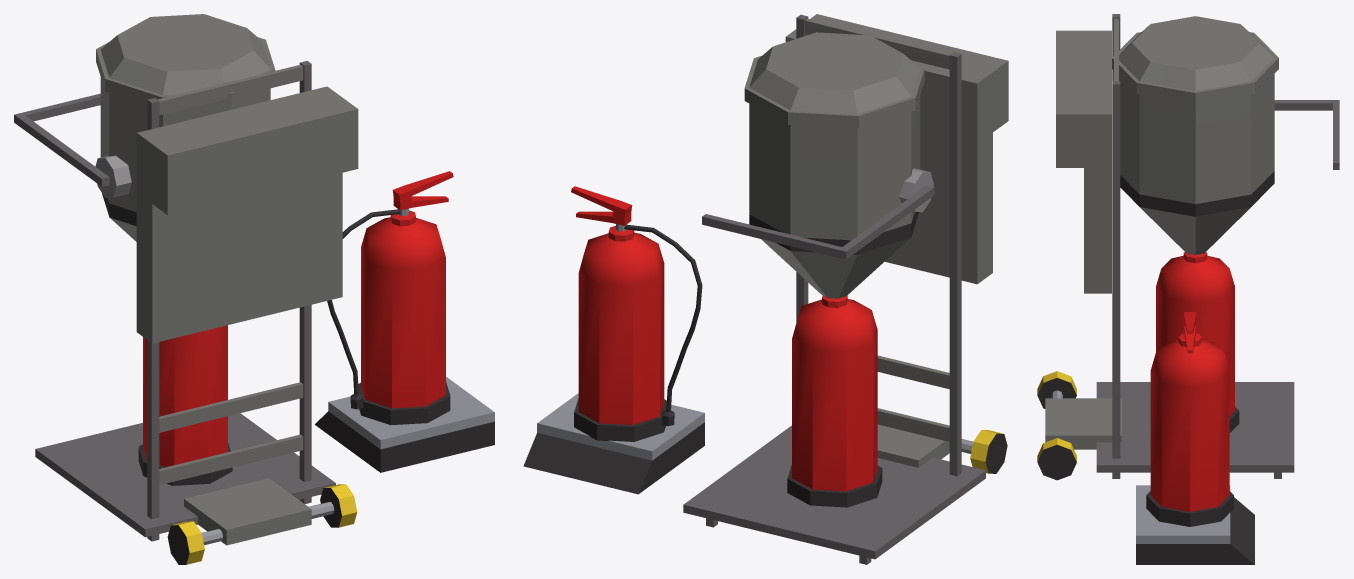
The model's file is g_o_fireExtinguisherFillStation.fbx.
3 views of the same model, side by side, from view 1: azimuth 30°, elevation 25°; view 2: azimuth 150°, elevation 25°; view 3: azimuth 270°, elevation 25° (orthographic). The views are drawn at different scales.
Parts seen in each view (by area): view 1: fireExtinguisherFillStation; view 2: fireExtinguisherFillStation; view 3: fireExtinguisherFillStation.
Part boxes in pixels (left/top/right/bottom): fireExtinguisherFillStation: left=14, top=14, right=494, bottom=564; fireExtinguisherFillStation: left=523, top=14, right=1008, bottom=564; fireExtinguisherFillStation: left=1037, top=14, right=1339, bottom=564.
Bounding box in the file's own units: 0.9751 × 1.12 × 0.7635.
